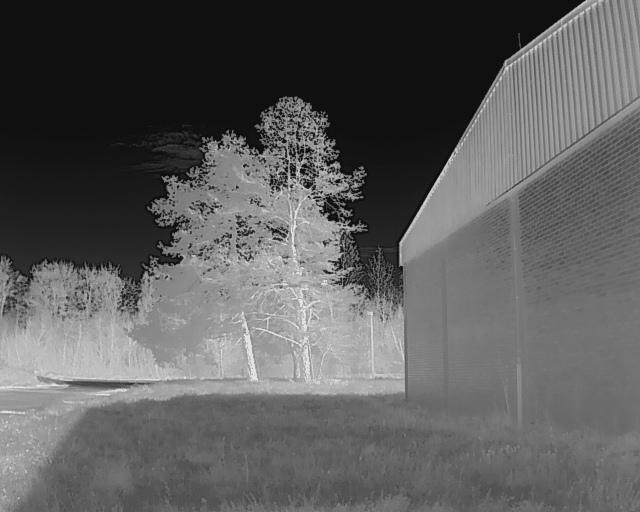drone: (272, 272, 334, 298)
